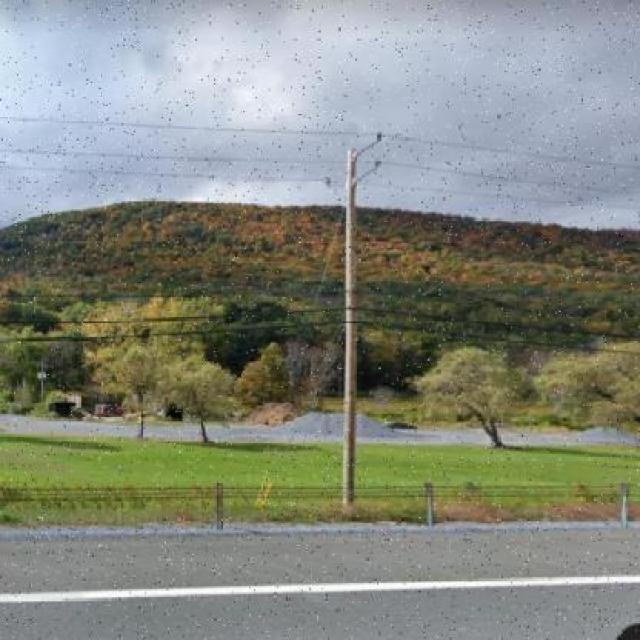pole: (316, 116, 390, 510)
